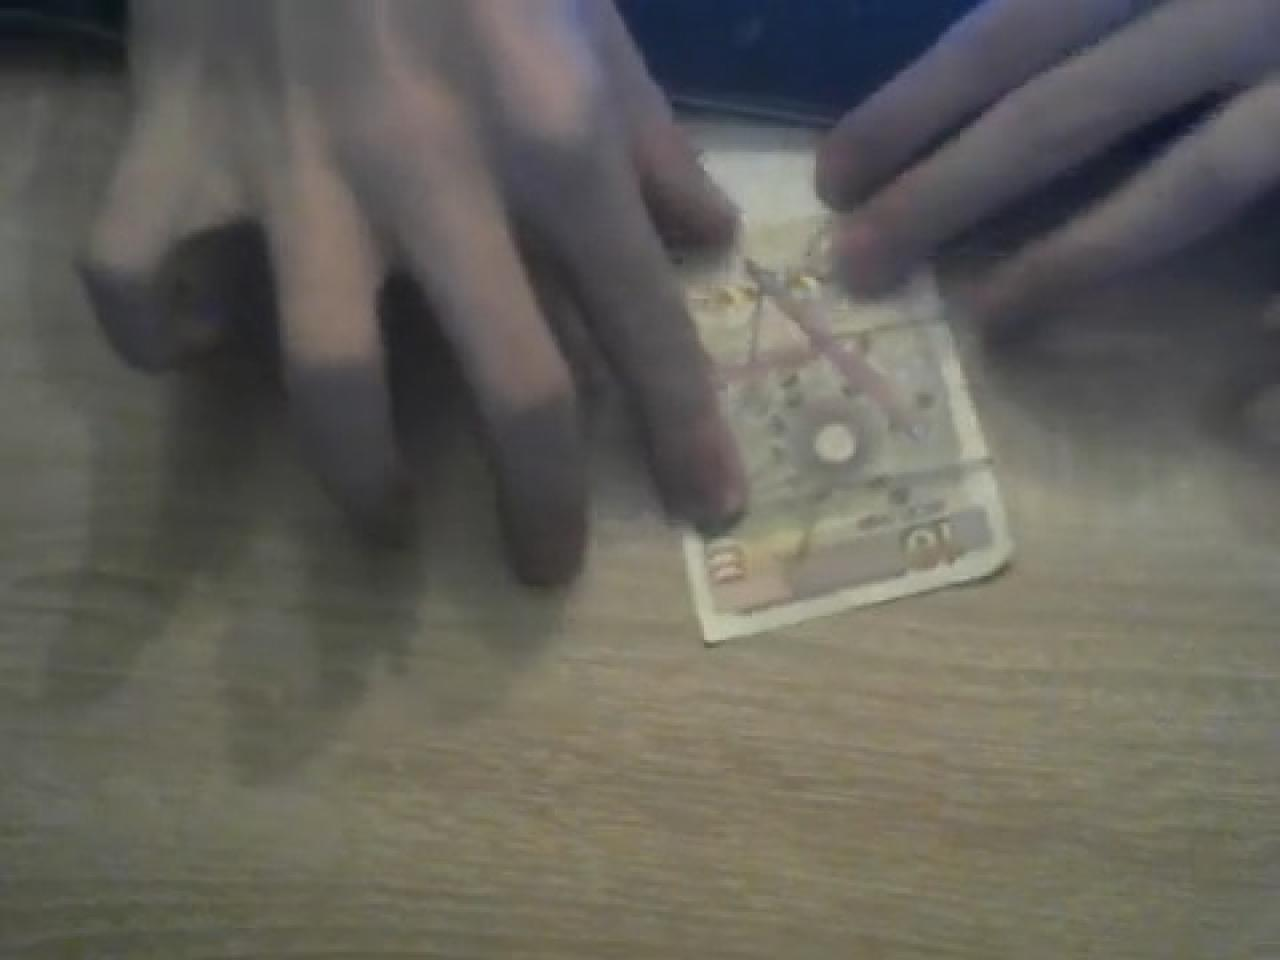10leva: (677, 128, 1016, 642)
